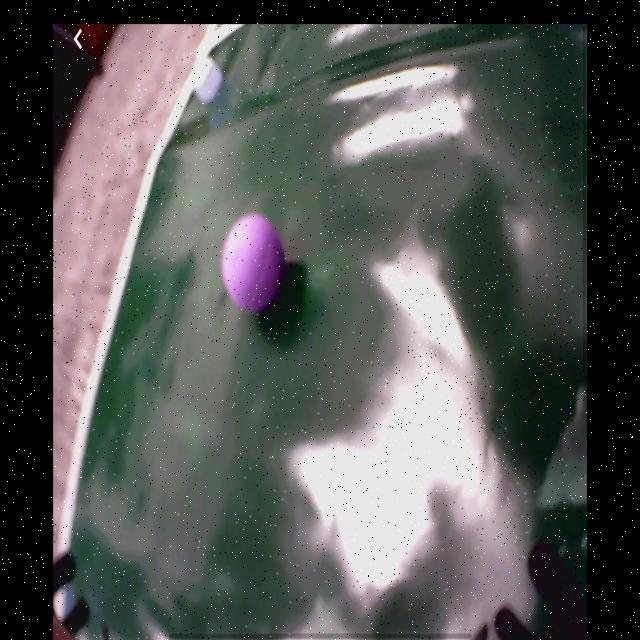ball: (223, 216, 284, 310)
